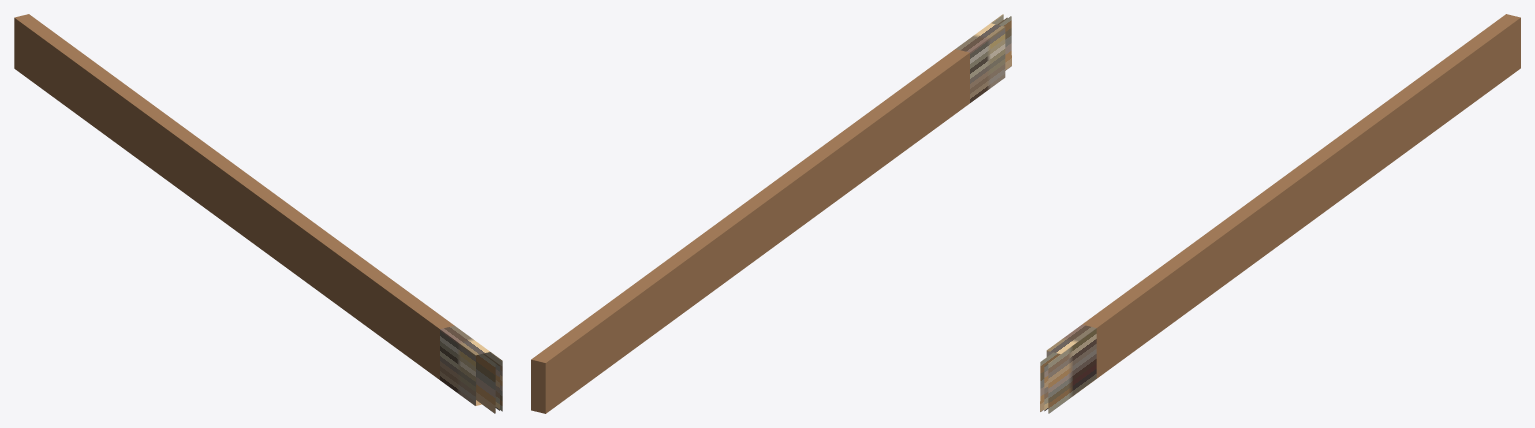
File: DBK_WoodFrame_Alone_B.fbx
3 views of the same model, side by side, from view 1: azimuth 30°, elevation 25°; view 2: azimuth 150°, elevation 25°; view 3: azimuth 330°, elevation 25° (orthographic).
Parts seen in each view (by area): view 1: DBK_WoodFrame_Alone_B; view 2: DBK_WoodFrame_Alone_B; view 3: DBK_WoodFrame_Alone_B.
Boxes of the visible parts, left/top/right/bottom form: DBK_WoodFrame_Alone_B: left=14, top=14, right=502, bottom=413; DBK_WoodFrame_Alone_B: left=531, top=14, right=1011, bottom=413; DBK_WoodFrame_Alone_B: left=1040, top=14, right=1520, bottom=413.
Size of the model in its own units: 5 by 16.58 by 279.
